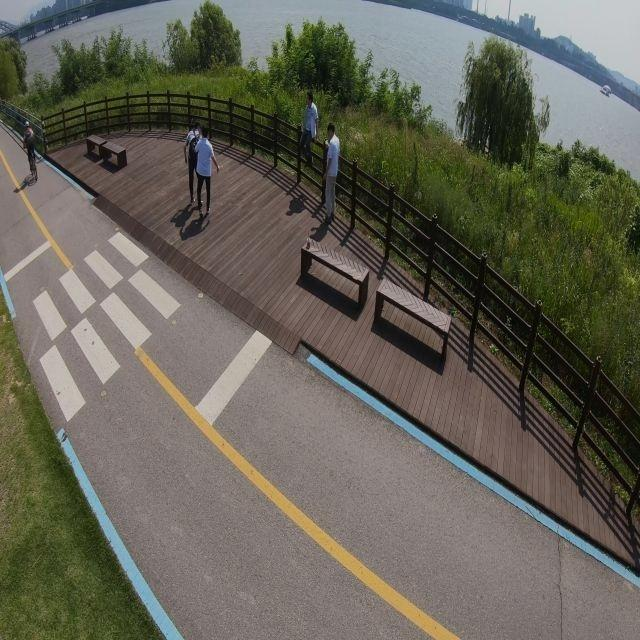fight: (184, 122, 216, 216)
non-fight: (318, 123, 338, 221), (301, 91, 316, 162), (22, 120, 38, 178)
